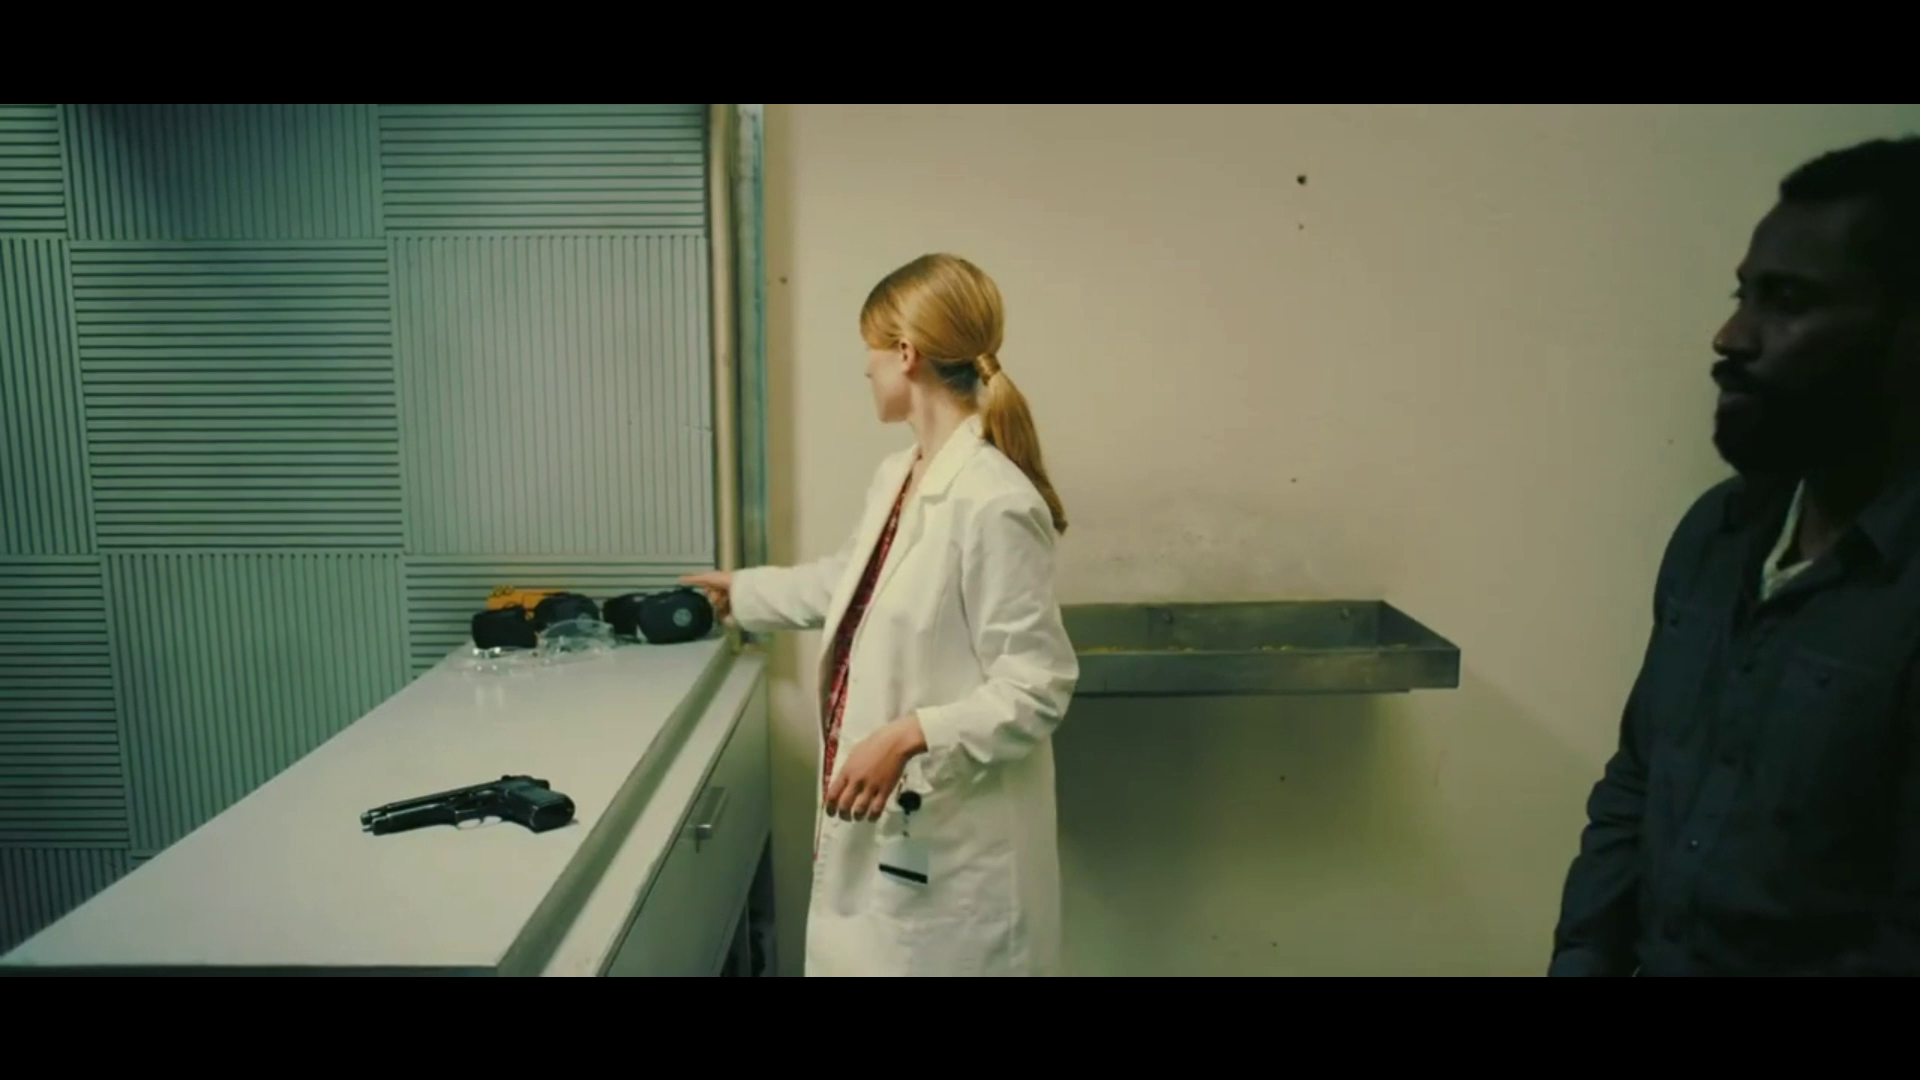SIG P226: (363, 771, 576, 833)
